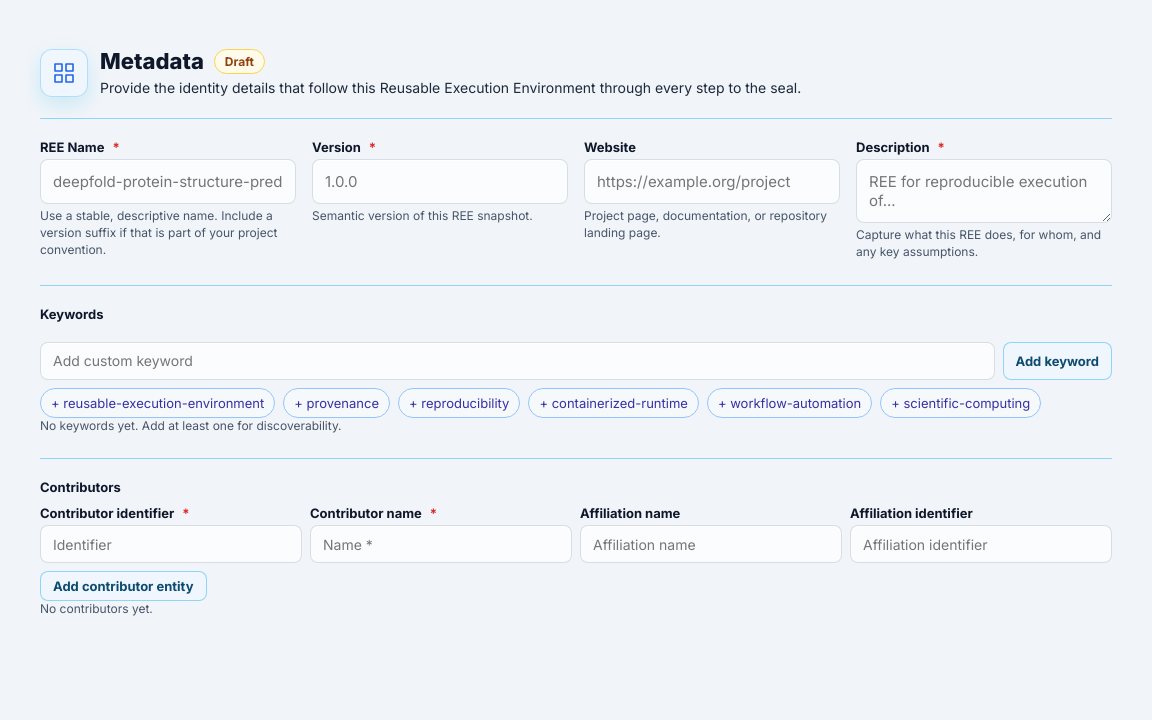
it: PageMetadataEntry › contributors › adds one and makes the first the corresponding author
This screenshot has width=1152, height=720.
In the field with placeholder "identifier": (171, 544) x1=40 y1=525 x2=302 y2=563, type "0000-0002-1825-0097"
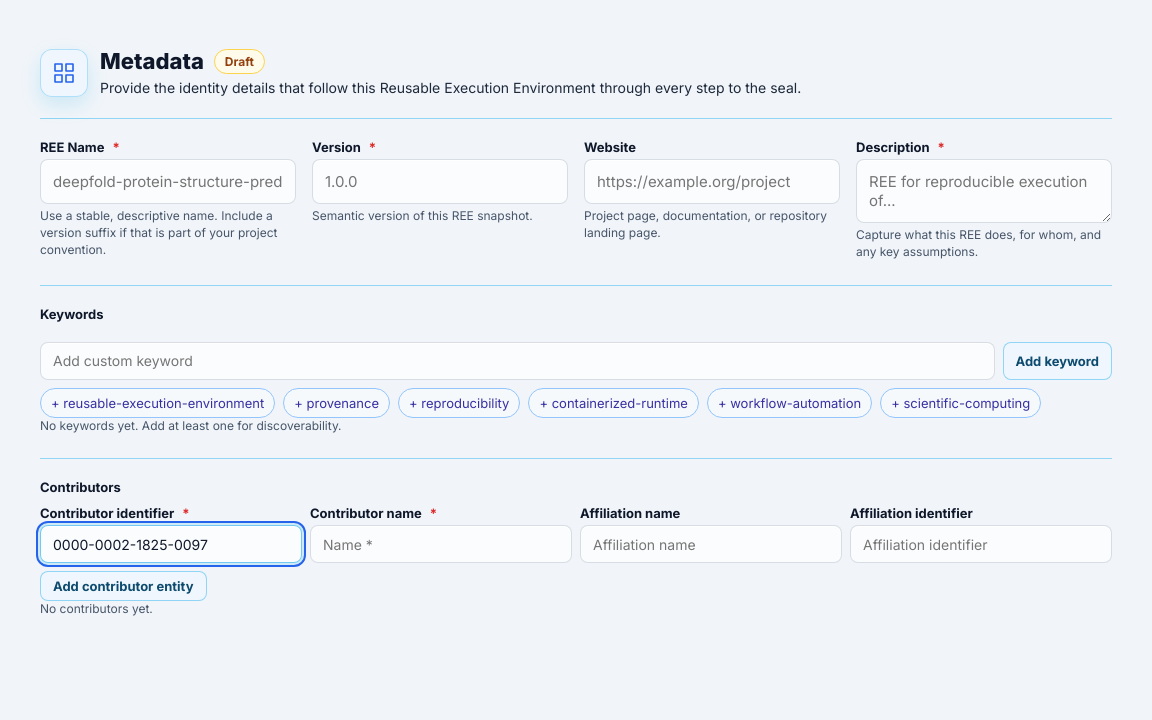
In the field with placeholder "name *": (441, 544) x1=310 y1=525 x2=572 y2=563, type "Josiah Carberry"
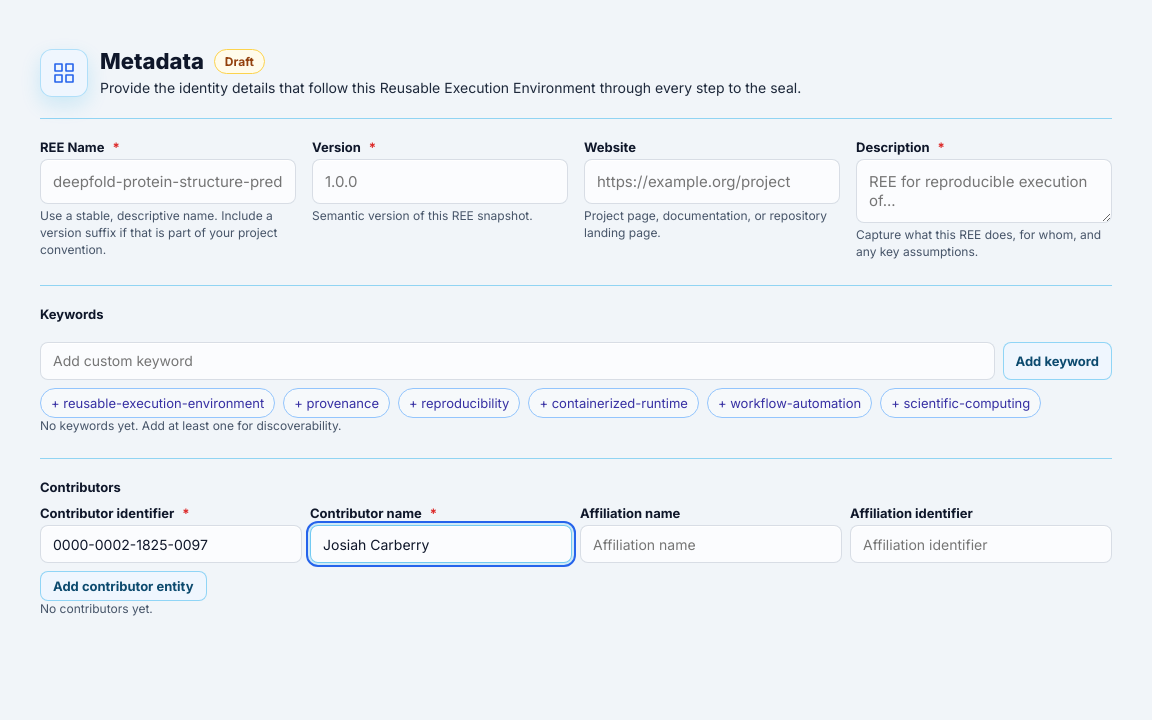
Click the button "Add contributor entity": (123, 586) x1=40 y1=571 x2=206 y2=601
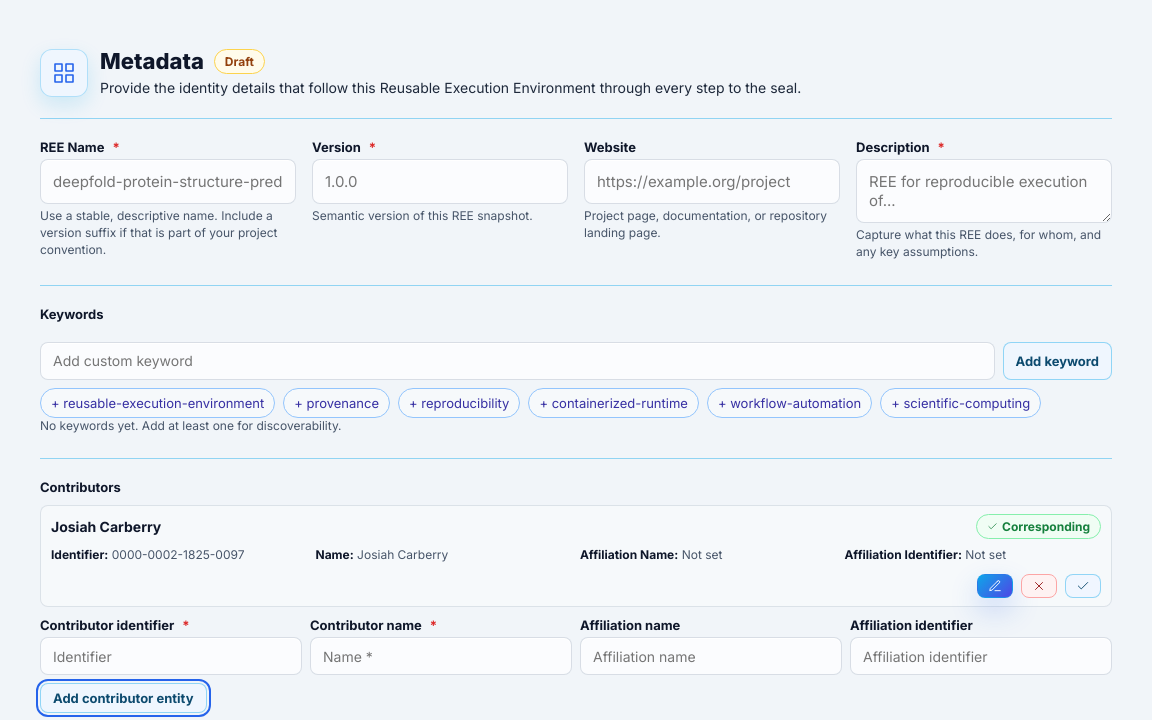
Result: the text "Corresponding" is shown at x1=976 y1=514 x2=1101 y2=539
